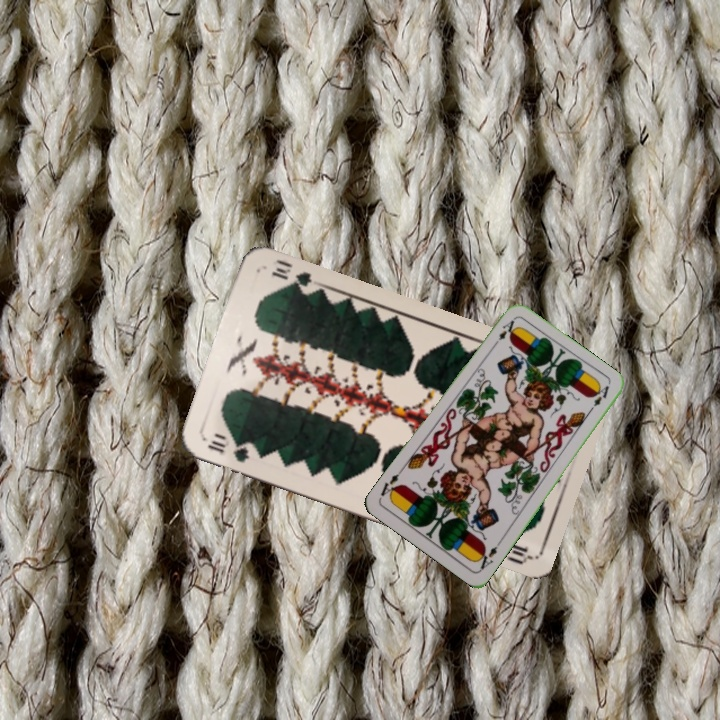EA: (473, 537, 503, 573), (489, 315, 517, 350)
G10: (203, 436, 252, 465)
